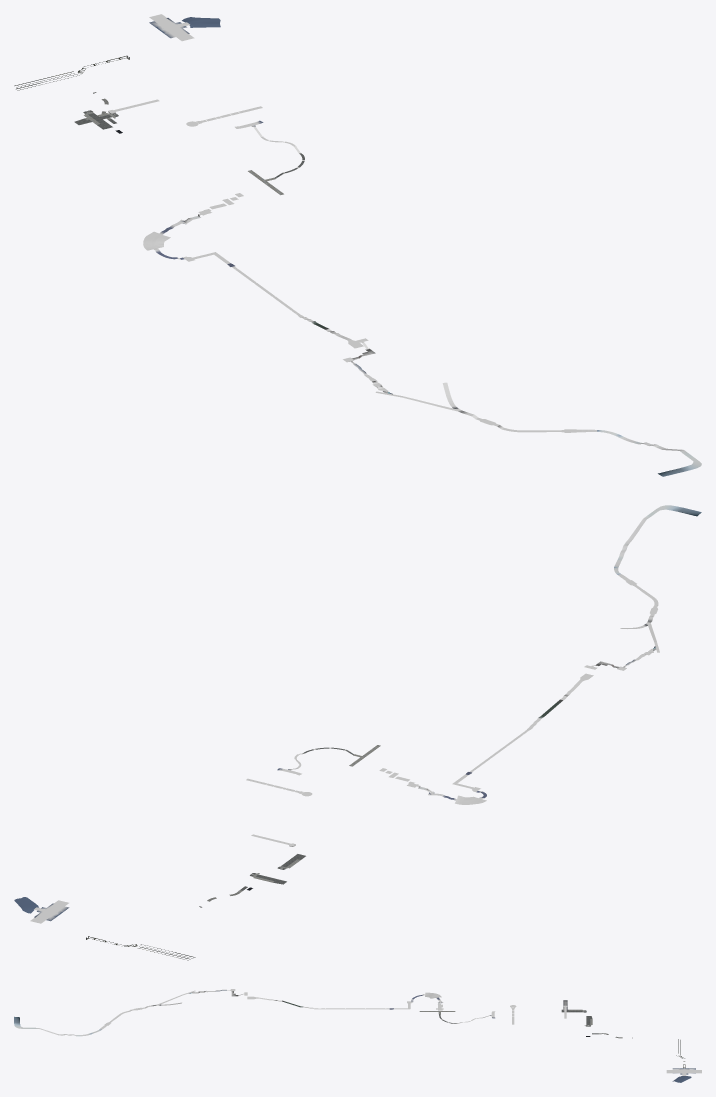
The model's file is Floor3.glb.
The picture shows the model from 3 angles, top to bottom: view 1: azimuth 30°, elevation 25°; view 2: azimuth 150°, elevation 25°; view 3: azimuth 270°, elevation 25°; orthographic projection. The views are drawn at different scales.
Parts seen in each view (by area): view 1: no part large enough to name; view 2: no part large enough to name; view 3: stg102_os01_Mesh_0012.
Part boxes in pixels (bbox=[...]): stg102_os01_Mesh_0012: bbox=[14, 1016, 101, 1036].
Bounding box in the file's own units: 512 × 122 × 1832.
Materials: 10 (10 with a texture image).
